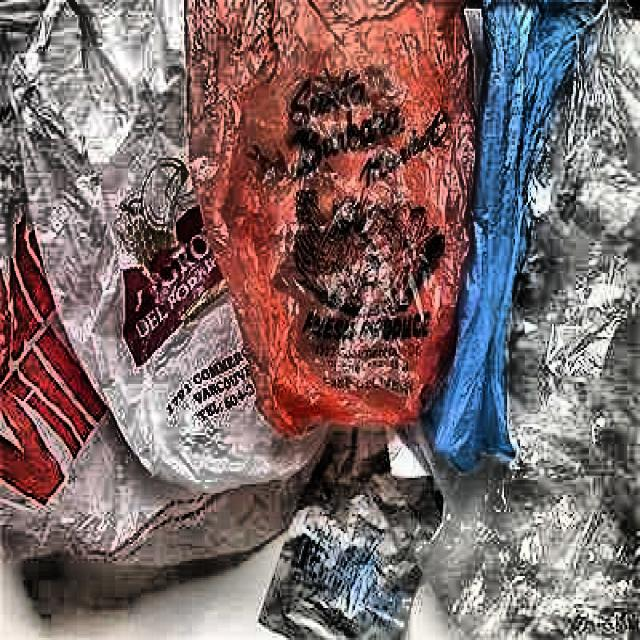Plastic: (0, 0, 312, 506), (175, 0, 459, 434)
